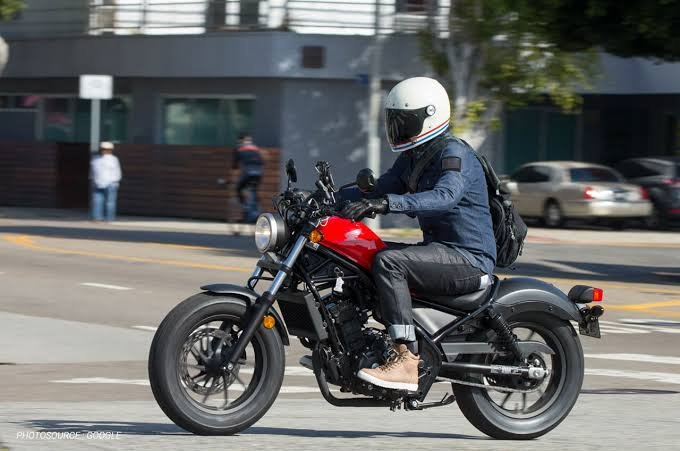motor: (145, 195, 606, 440)
